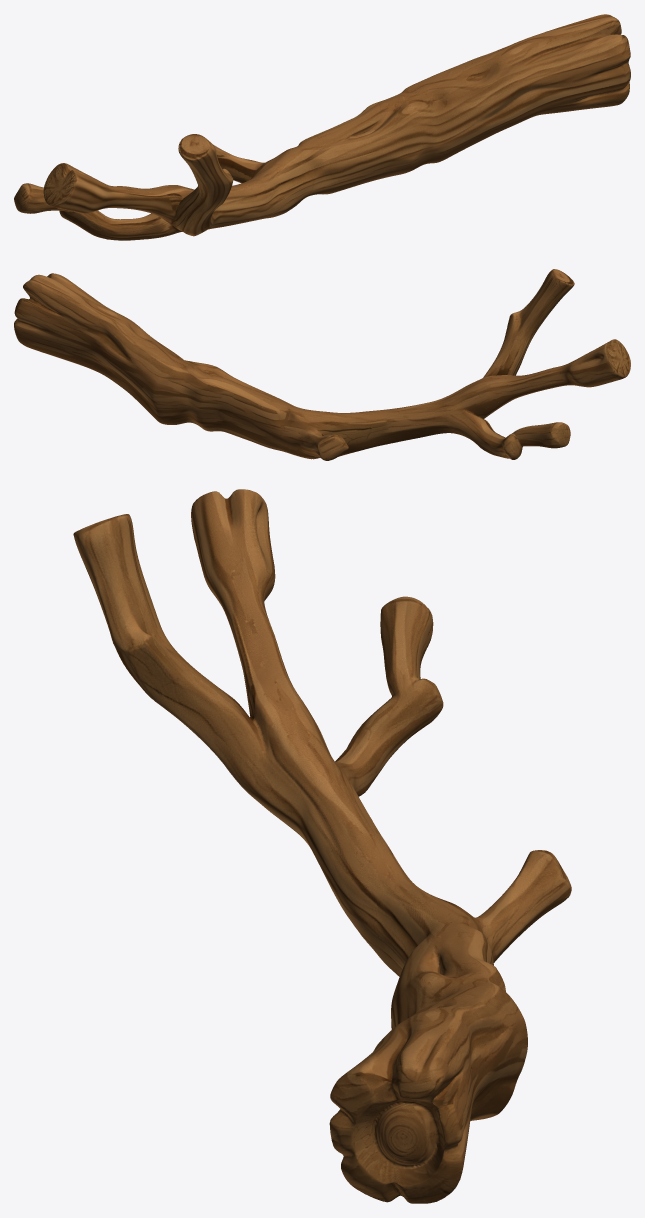
Rendered from Meshy_AI_Branch_0613030433_texture.fbx.
3 renders of one model, top to bottom at view 1: azimuth 30°, elevation 25°; view 2: azimuth 150°, elevation 25°; view 3: azimuth 270°, elevation 25°, orthographic. The views are drawn at different scales.
Visible parts, largest first — view 1: Mesh_0; view 2: Mesh_0; view 3: Mesh_0.
Part boxes in pixels (x1,y1,x2,y2): Mesh_0: (14, 14, 630, 240); Mesh_0: (14, 269, 630, 460); Mesh_0: (73, 489, 571, 1203).
Bounding box in the file's own units: 190 × 53.45 × 73.29.
1 material, 1 textured.
